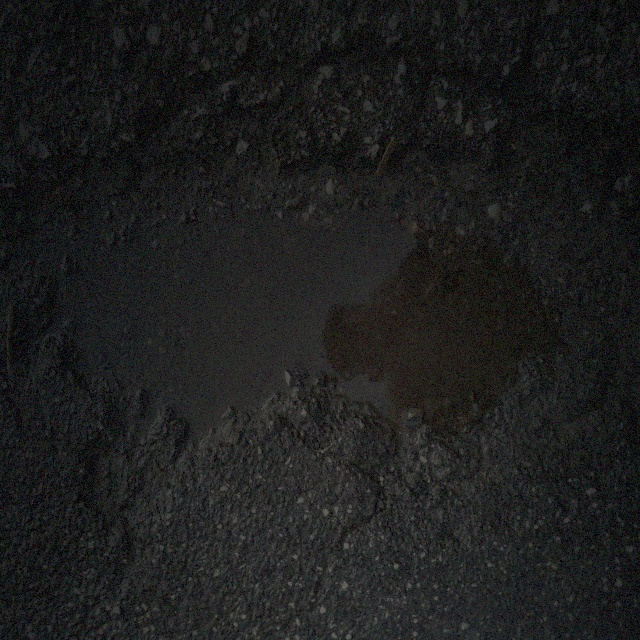pothole: (41, 117, 565, 490)
